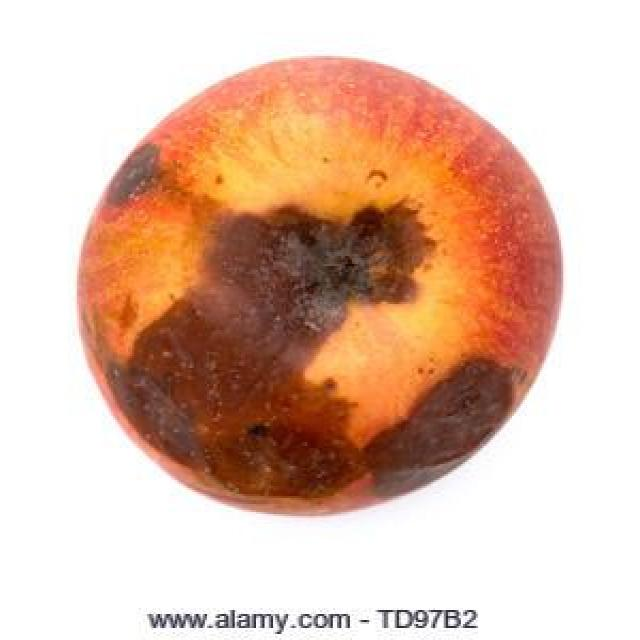Rotten: (68, 42, 560, 526)
